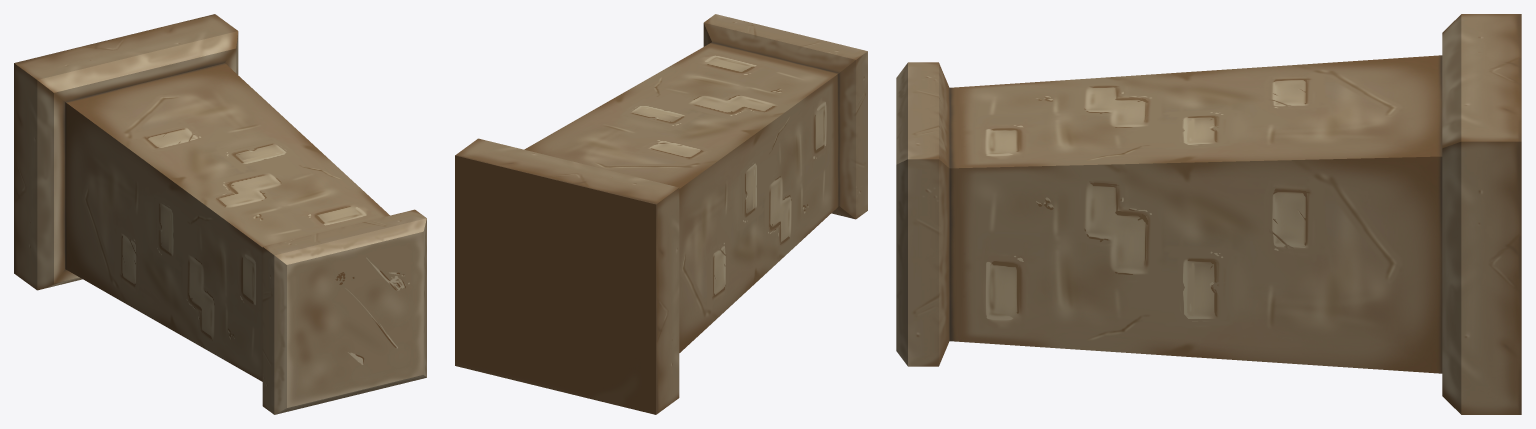
Rendered from tower.obj.
3 views of the same model, side by side, from view 1: azimuth 30°, elevation 25°; view 2: azimuth 150°, elevation 25°; view 3: azimuth 270°, elevation 25° (orthographic). The views are drawn at different scales.
Parts seen in each view (by area): view 1: Cube; view 2: Cube; view 3: Cube.
Boxes of the visible parts, bbox=[...] form: Cube: bbox=[14, 14, 426, 414]; Cube: bbox=[455, 14, 867, 414]; Cube: bbox=[896, 14, 1521, 414].
Bounding box in the file's own units: 2 × 2 × 4.15.
